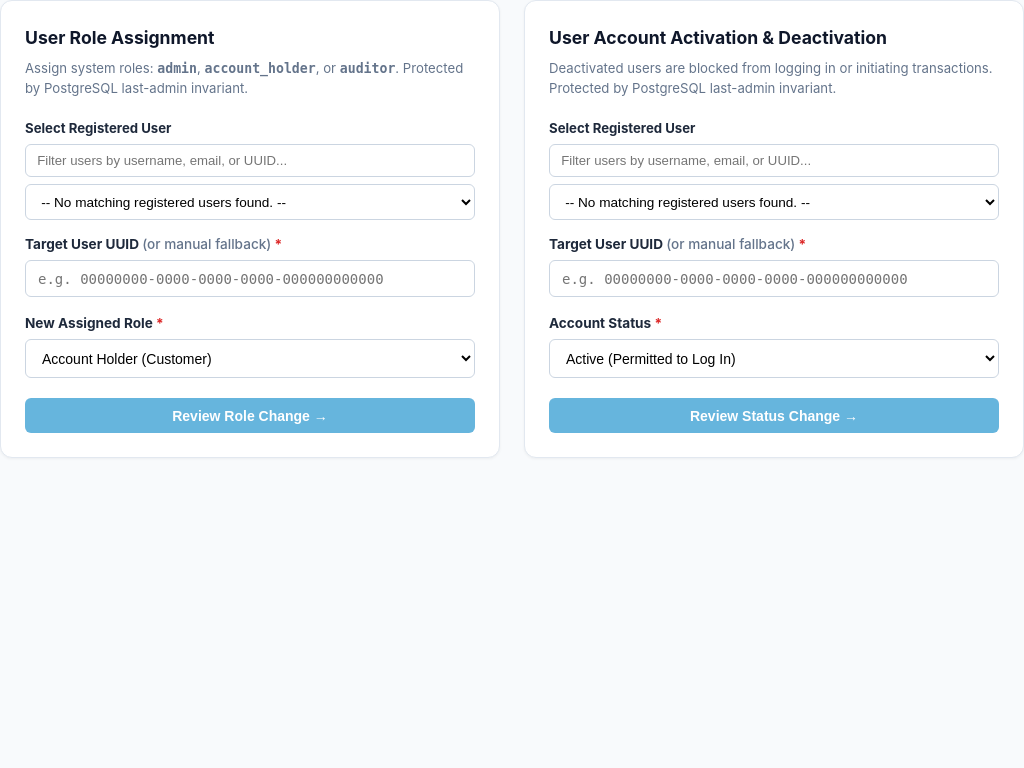
Admin Portal Component & Integration Suite (Stage 6) › 3. UserGovernanceForm Component (Role & Status) › requires confirmation modal before executing role change
Type "22222222-2222-2222-2222-222222222222" into the field with test id "input-role-user-id" at (250, 278), box [25,260,475,297]
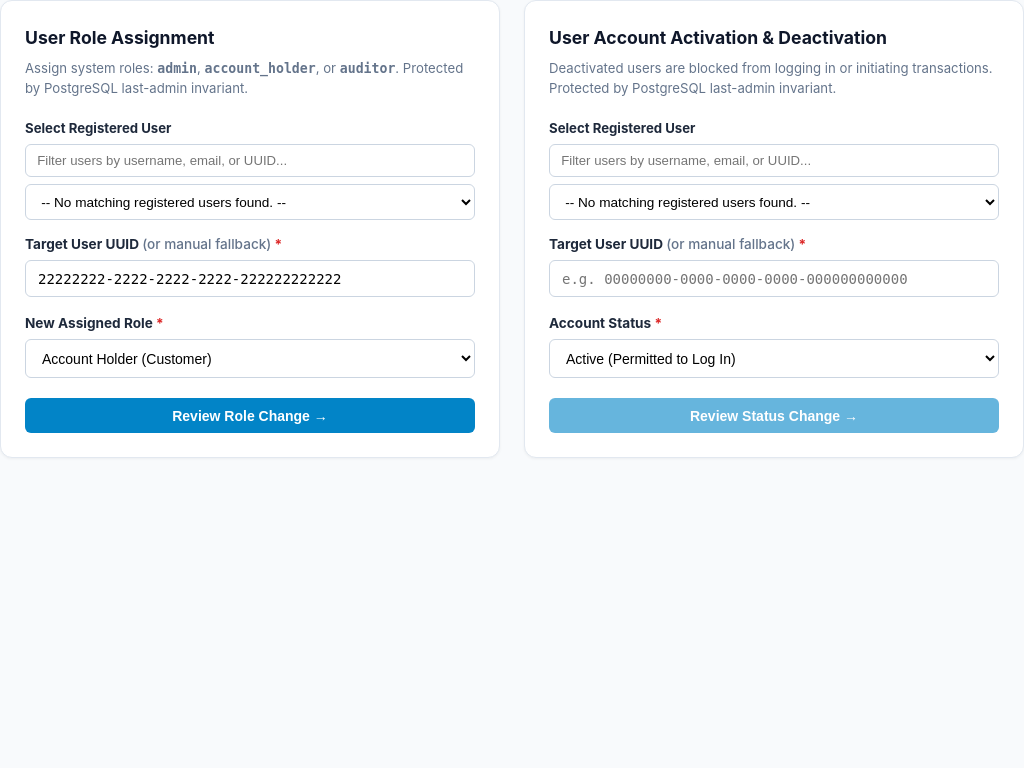
Select "Auditor (Compliance Oversight)" in the dropdown with test id "select-target-role" at (250, 359), box [25,339,475,378]
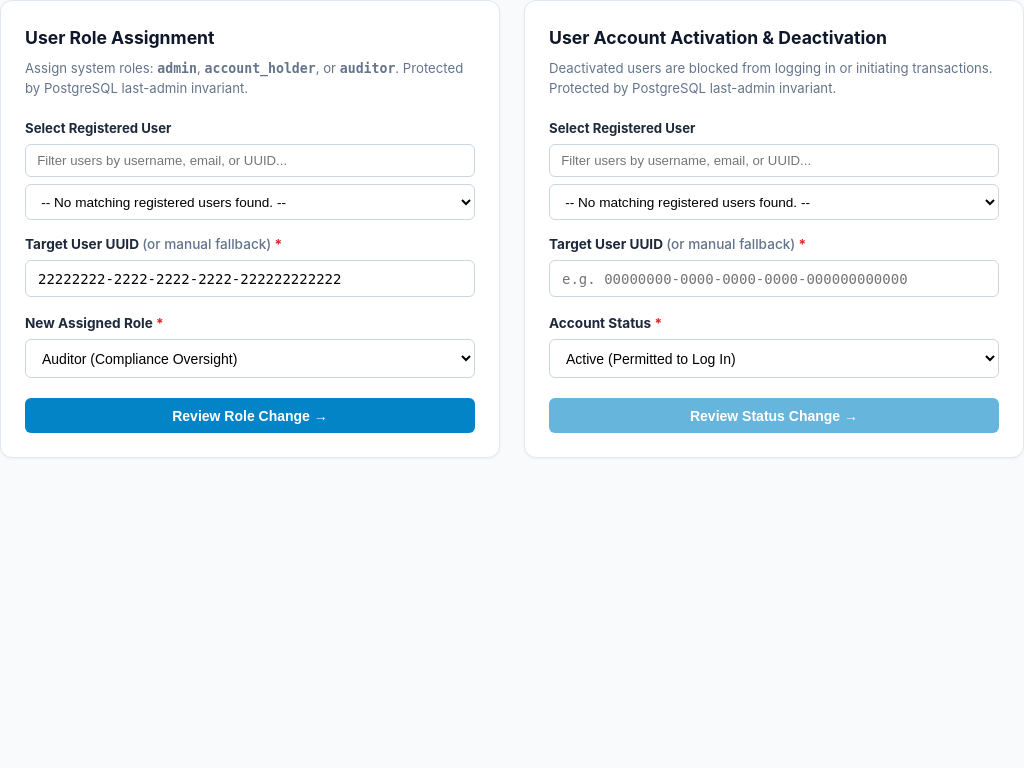
Click the button with test id "btn-initiate-role-update" at (250, 416), box [25,398,475,434]
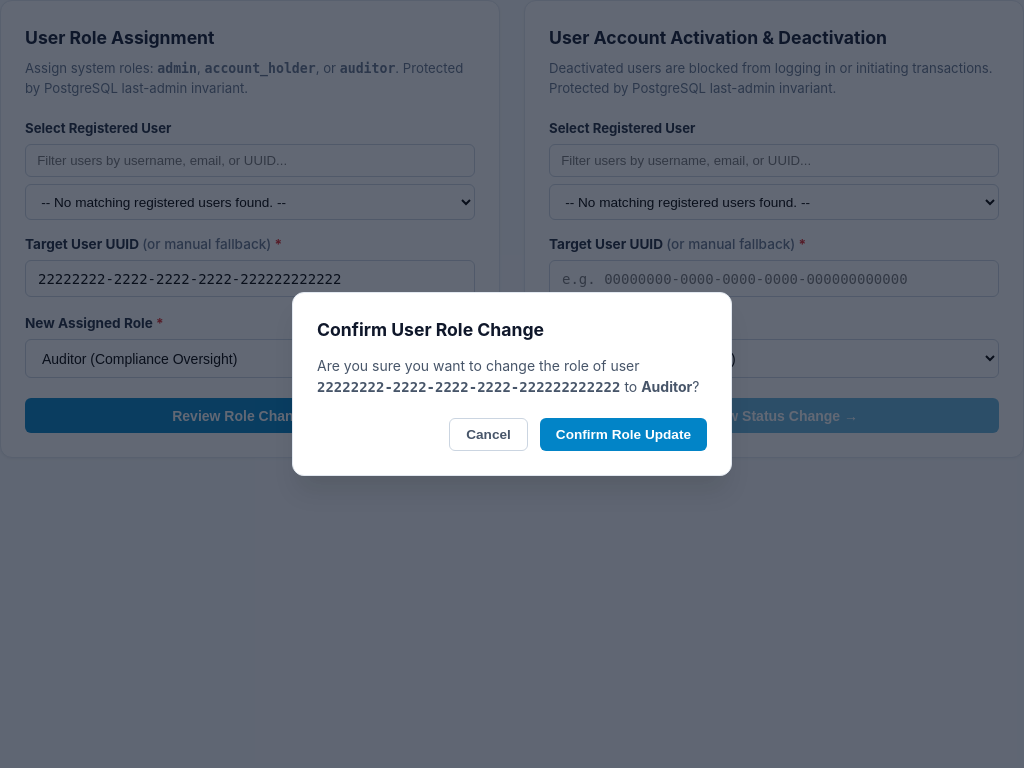
Now the heading "Confirm User Role Change" is shown, box [317,319,544,340]
Confirm inside modal
Click the button with test id "btn-confirm-role-update" at (623, 435), box [540,418,707,451]
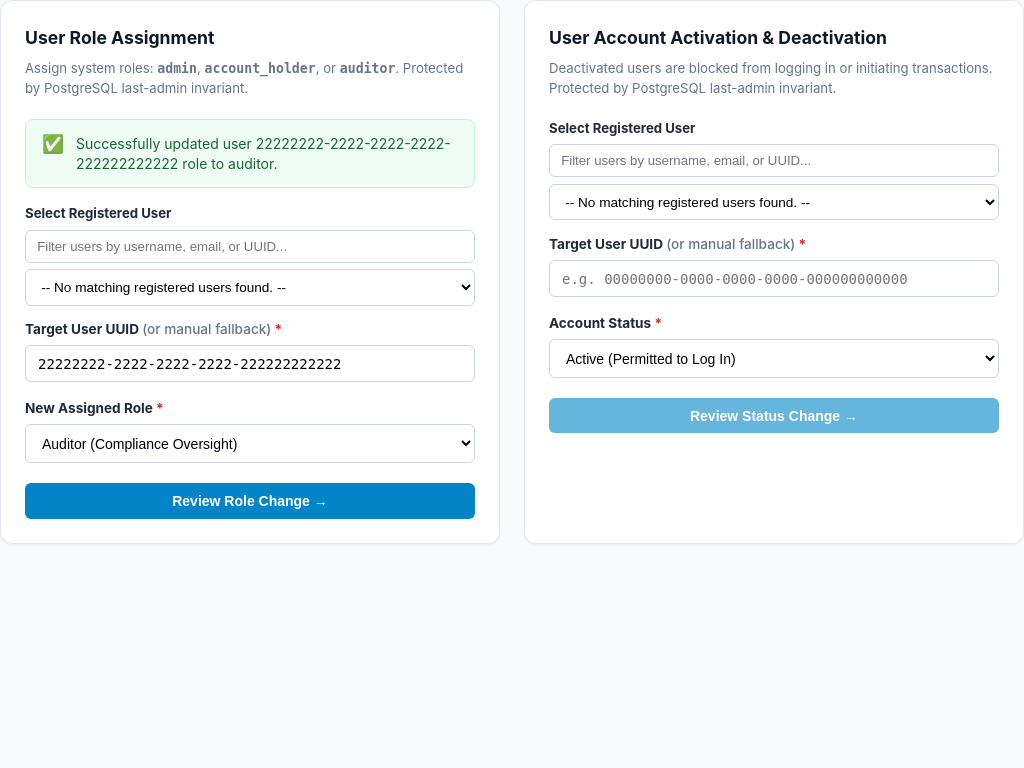
Now the text "Successfully updated user 22222222-2222-2222-2222-222222222222 role to auditor" is shown, box [76,135,451,172]
